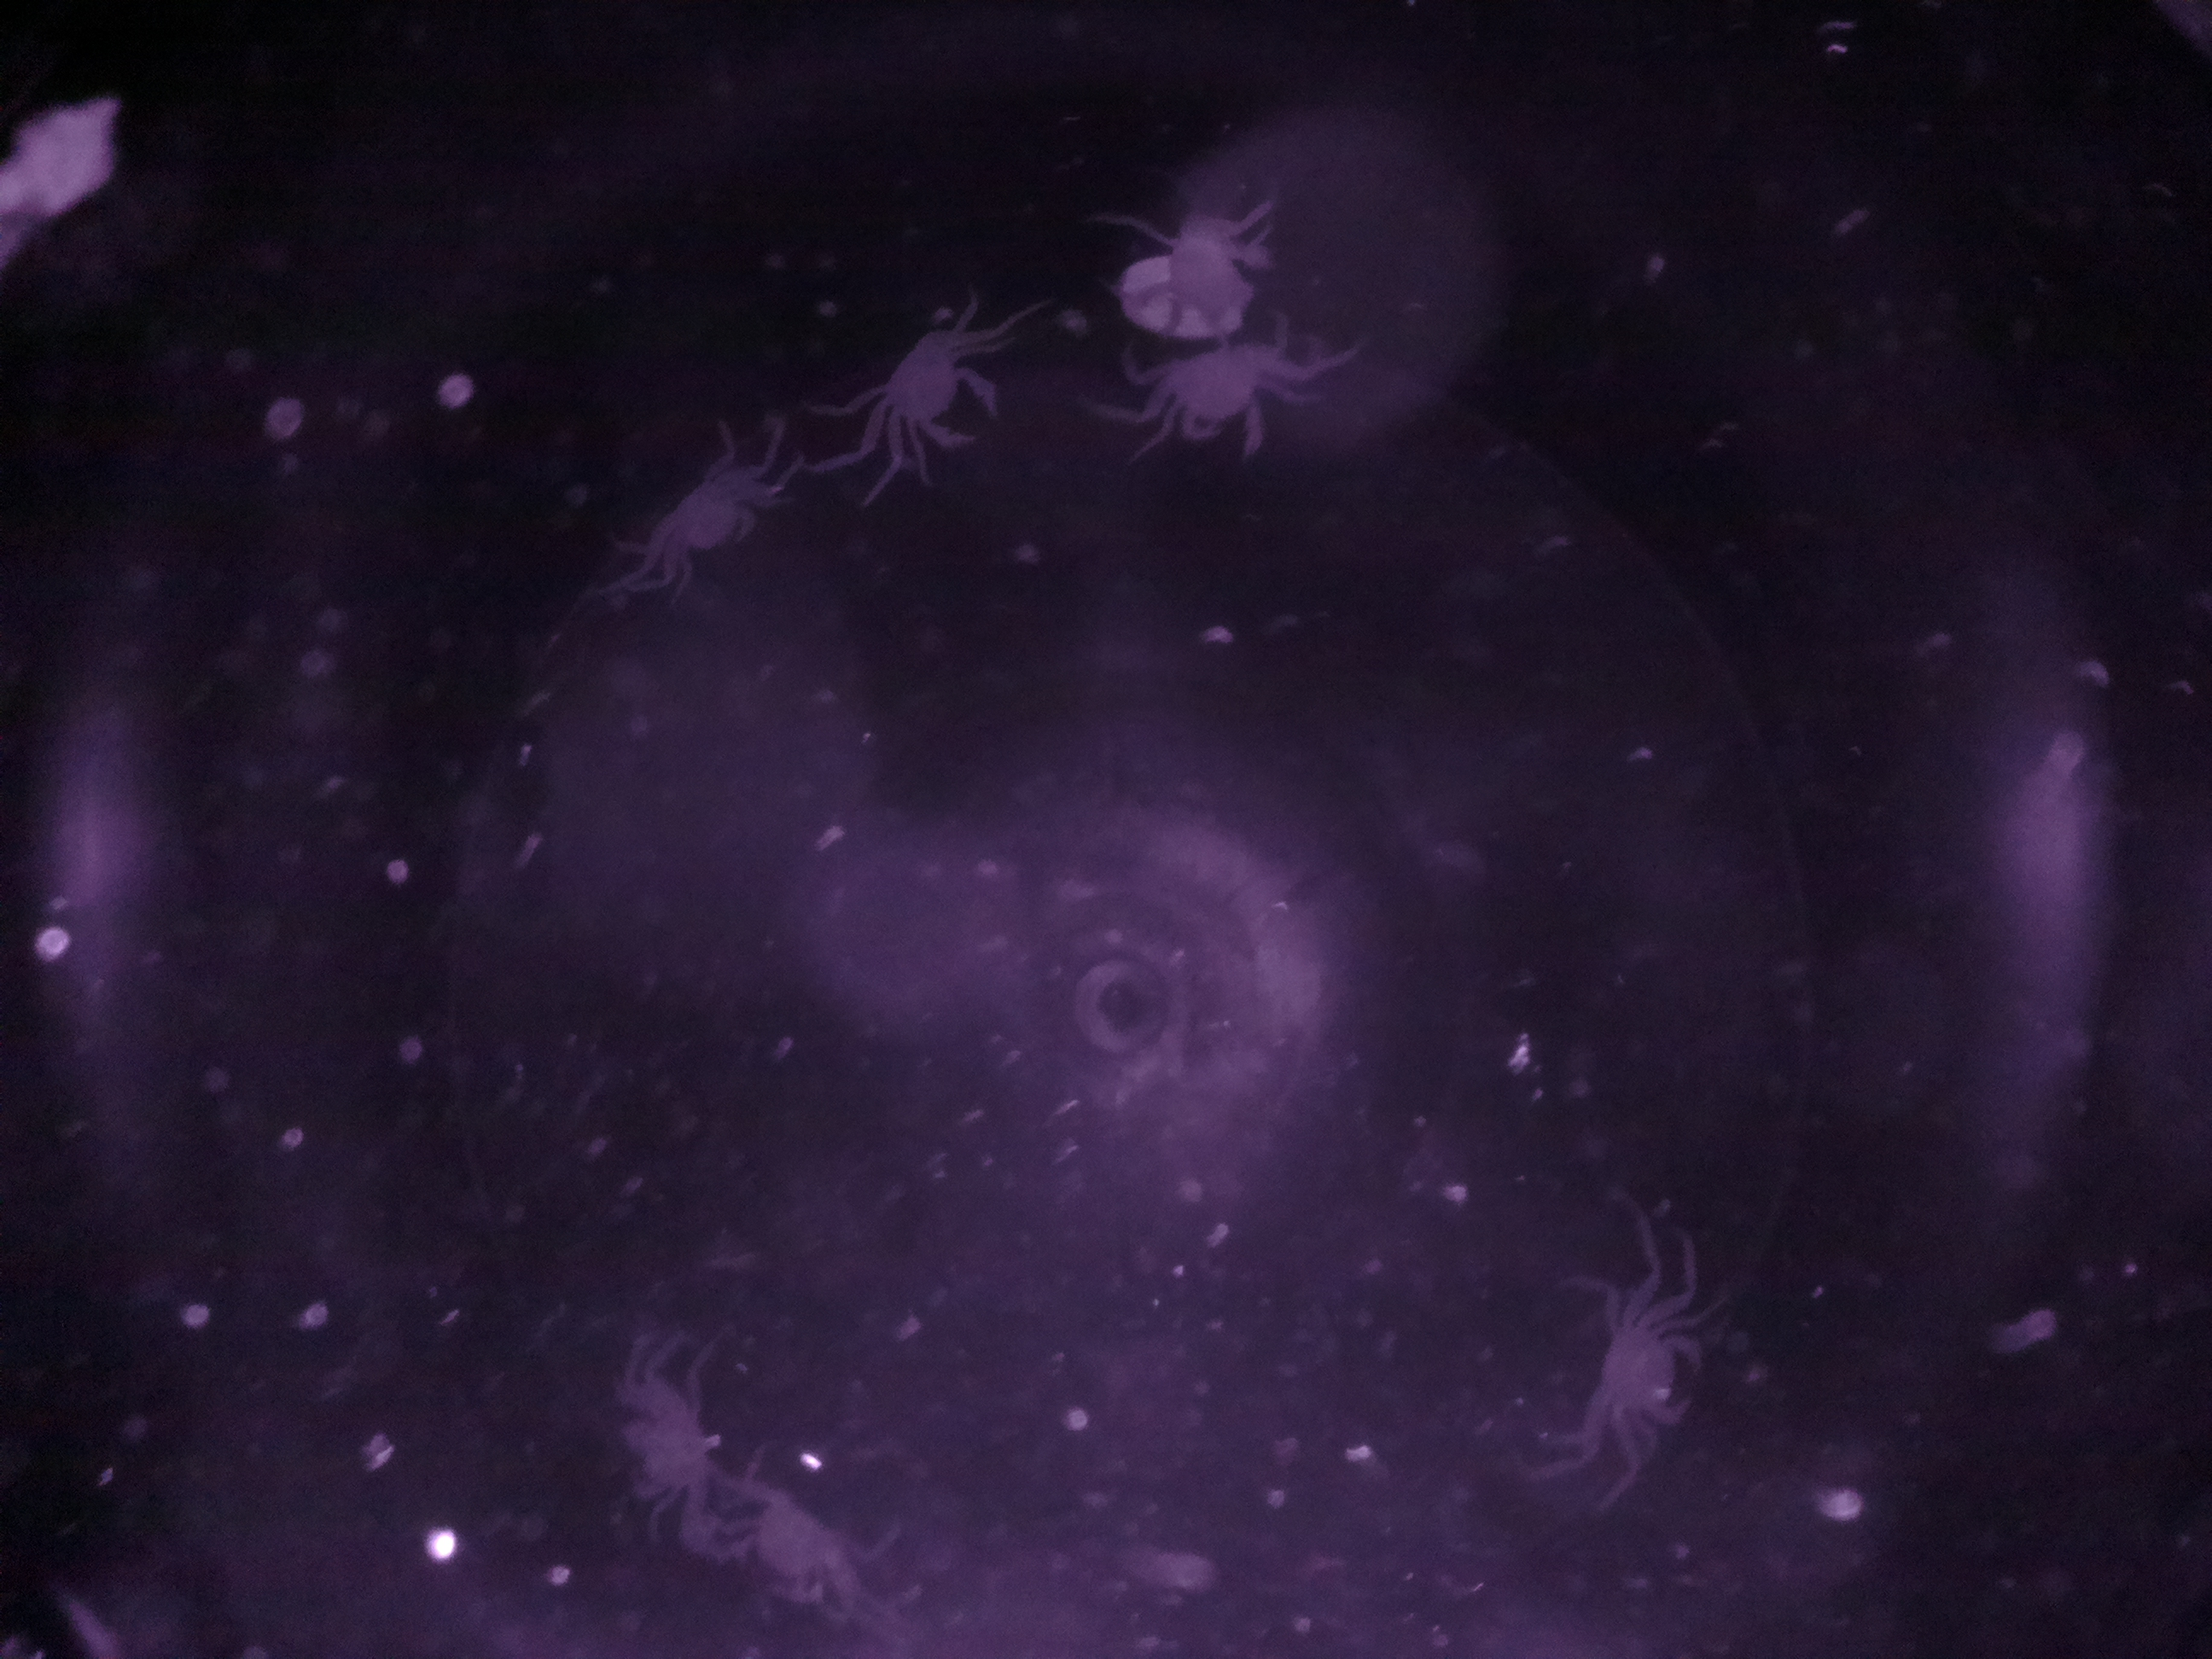Crab: (1578, 1255, 1716, 1500), (589, 1344, 738, 1553), (608, 418, 770, 608), (1106, 331, 1320, 472), (841, 291, 1003, 476)
